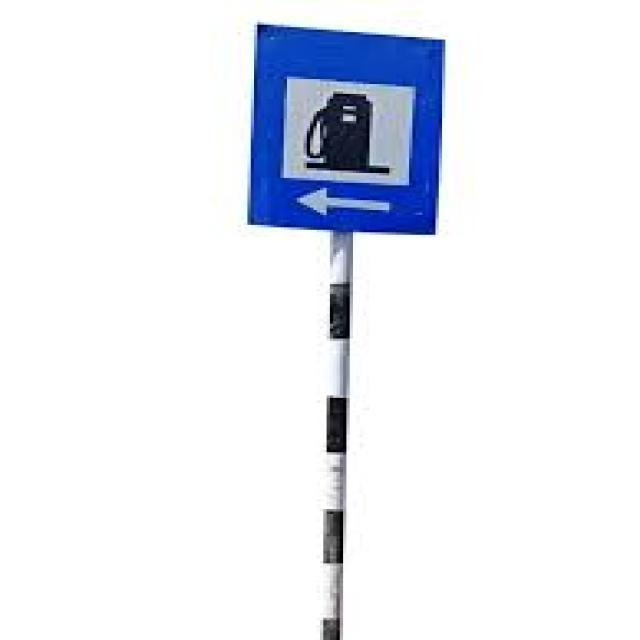petrol pump ahead: (267, 58, 438, 198)
